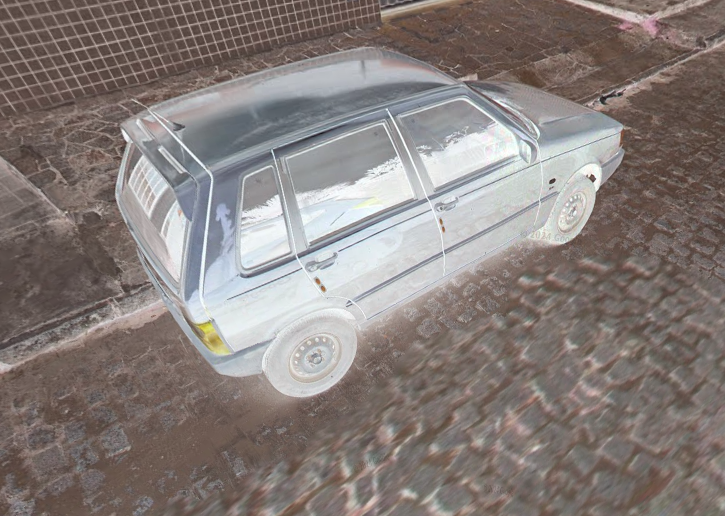car: (114, 41, 626, 400)
